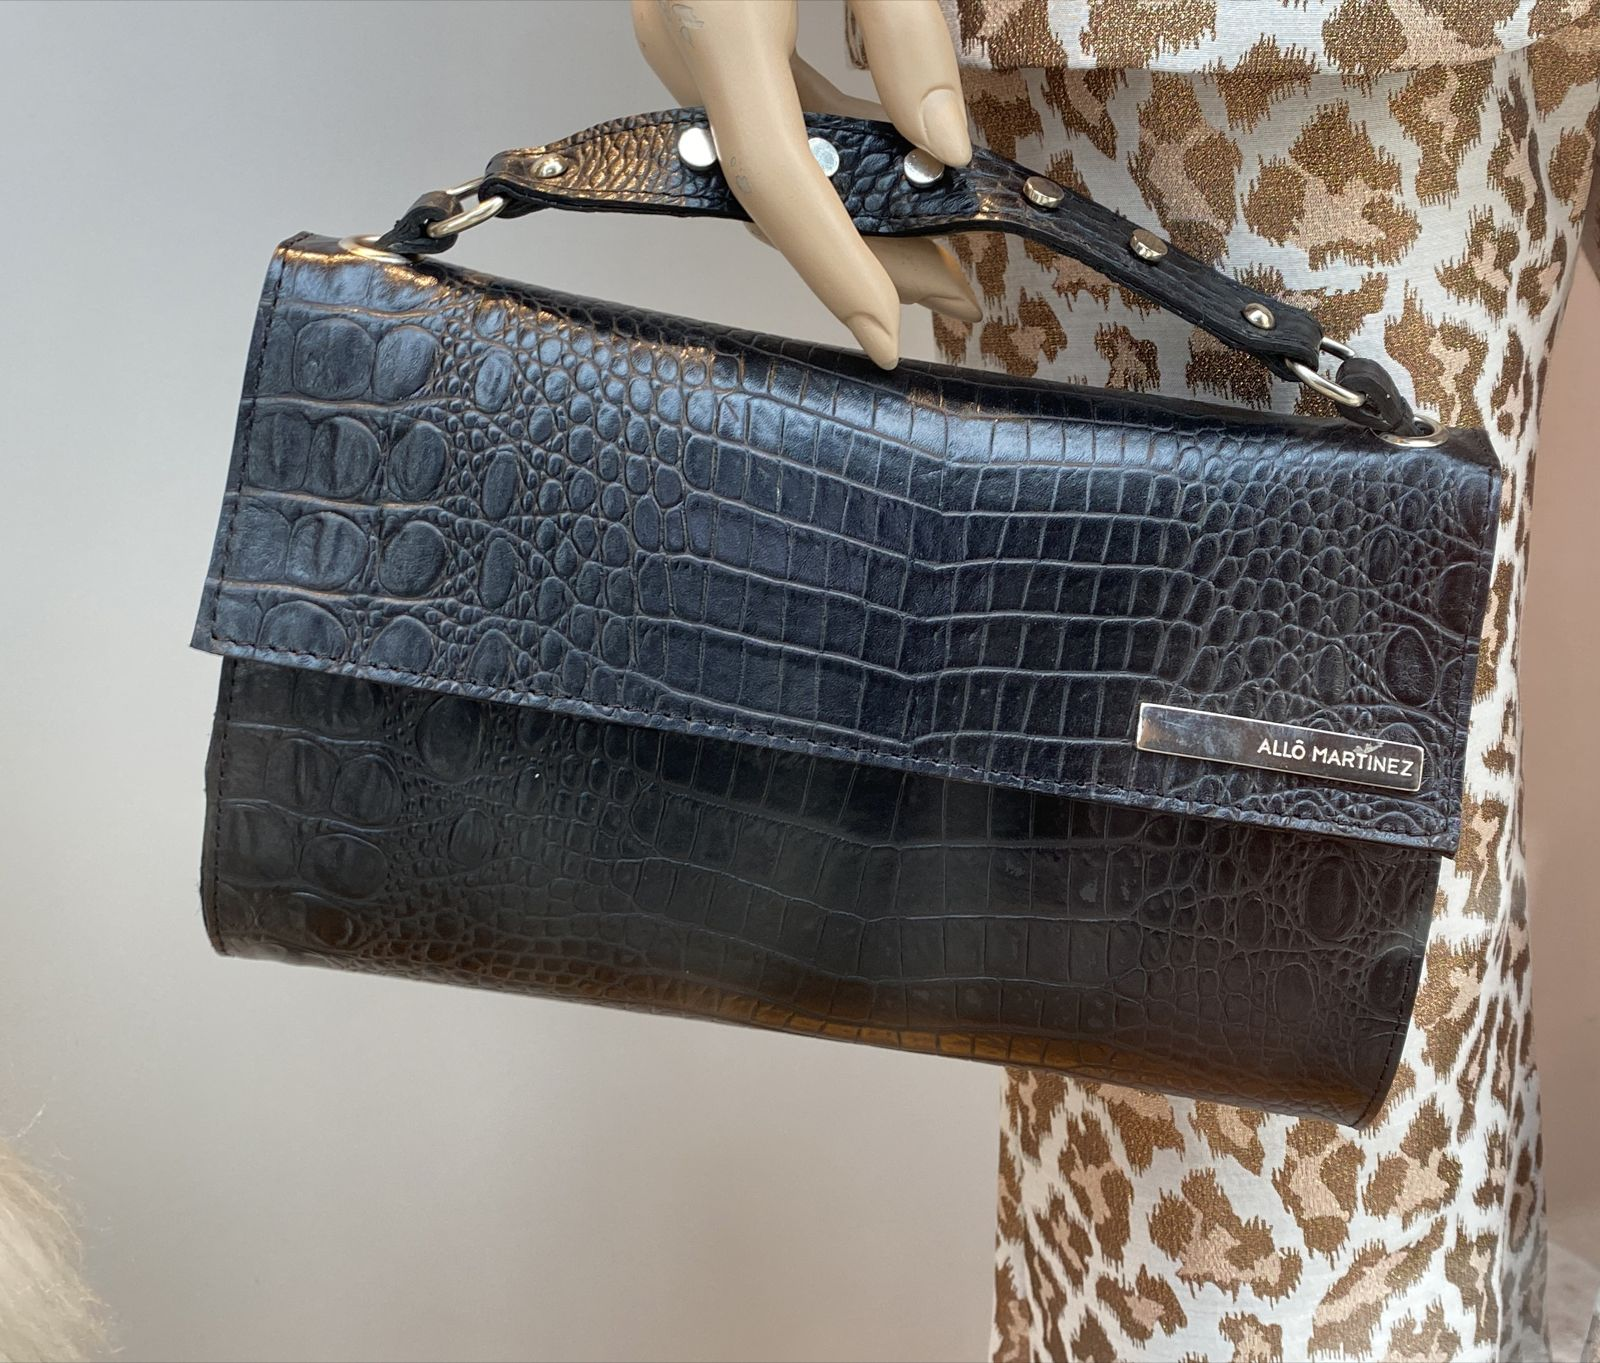cartera: (183, 112, 1517, 1207)
cuero: (530, 438, 1248, 986)
